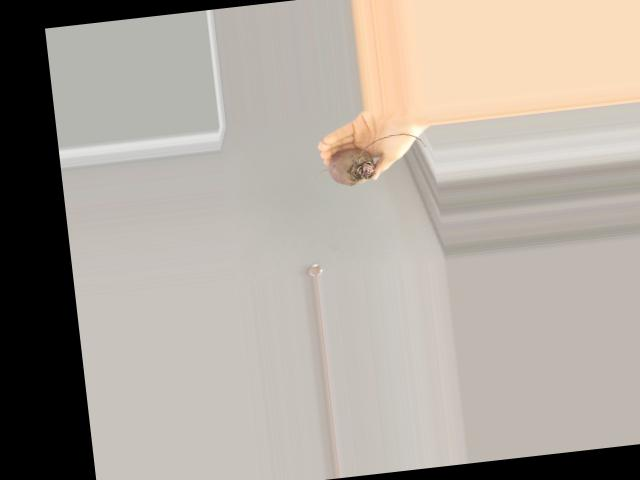beet: (313, 130, 428, 188)
